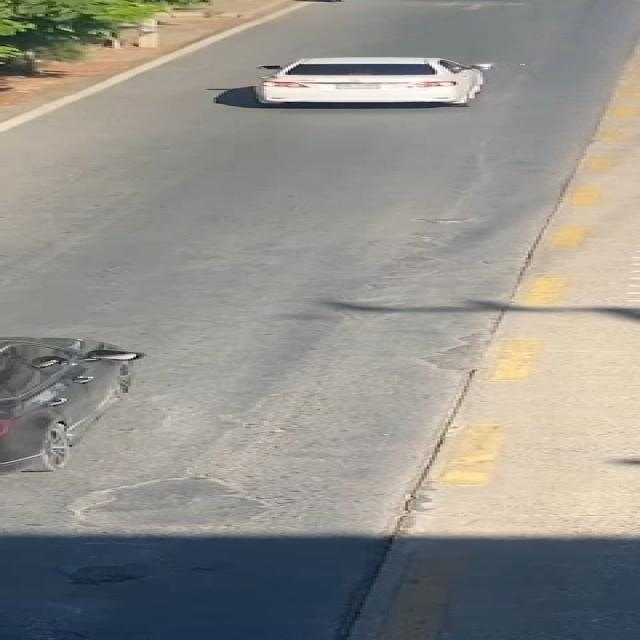car: (225, 46, 541, 123)
